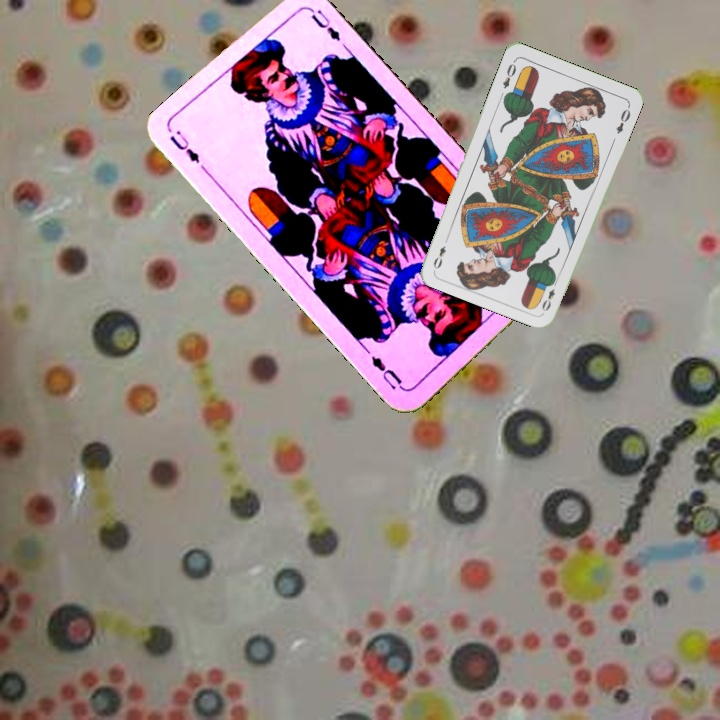EO: (538, 275, 561, 314), (499, 56, 519, 91)
EU: (165, 125, 203, 166)
